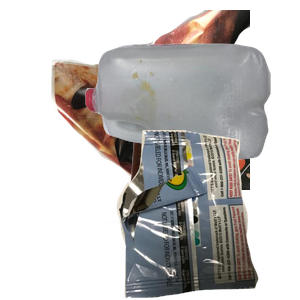glass: (29, 120, 242, 300)
paper: (49, 10, 289, 190)
plastic: (83, 41, 300, 194)
trash: (114, 130, 300, 300)
